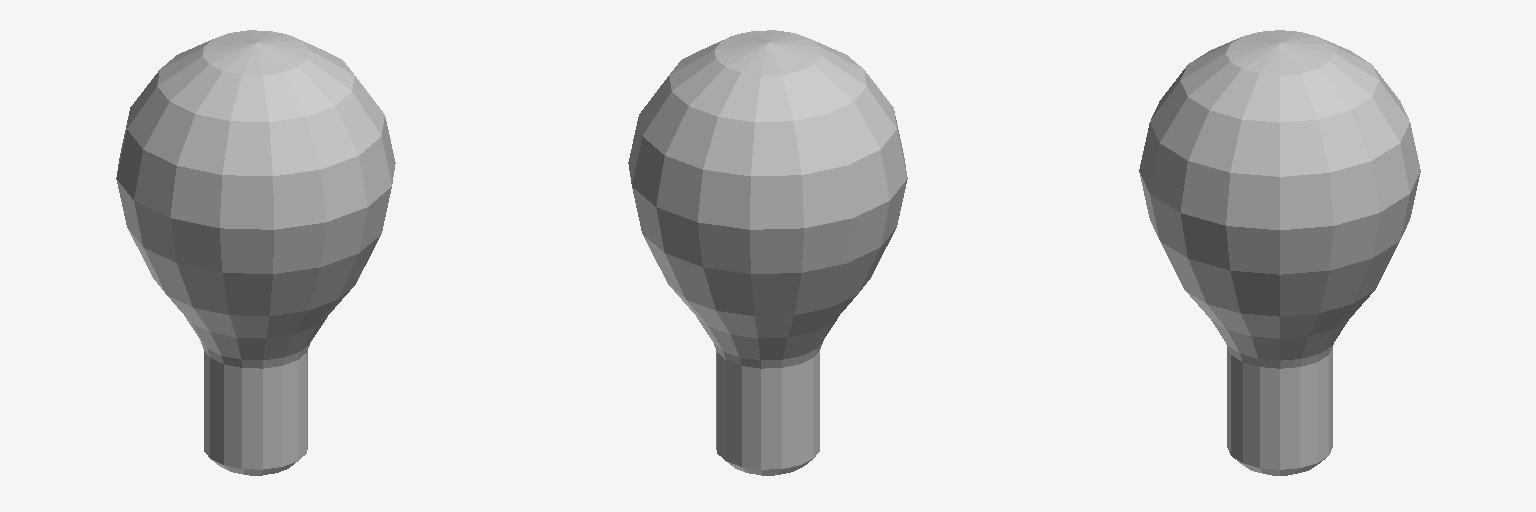
The model's file is bulb.obj.
The picture shows the model from 3 angles: view 1: azimuth 30°, elevation 25°; view 2: azimuth 150°, elevation 25°; view 3: azimuth 270°, elevation 25°; orthographic projection.
Visible parts, largest first — view 1: glass, copper; view 2: glass, copper; view 3: glass, copper.
Boxes of the visible parts, box(x1,y1,x2,y2) form: glass: box(116, 30, 395, 359); copper: box(200, 340, 309, 475); glass: box(628, 30, 907, 359); copper: box(714, 340, 823, 475); glass: box(1139, 30, 1420, 360); copper: box(1226, 344, 1333, 475).
Bounding box in the file's own units: 0.6 × 1 × 0.6.